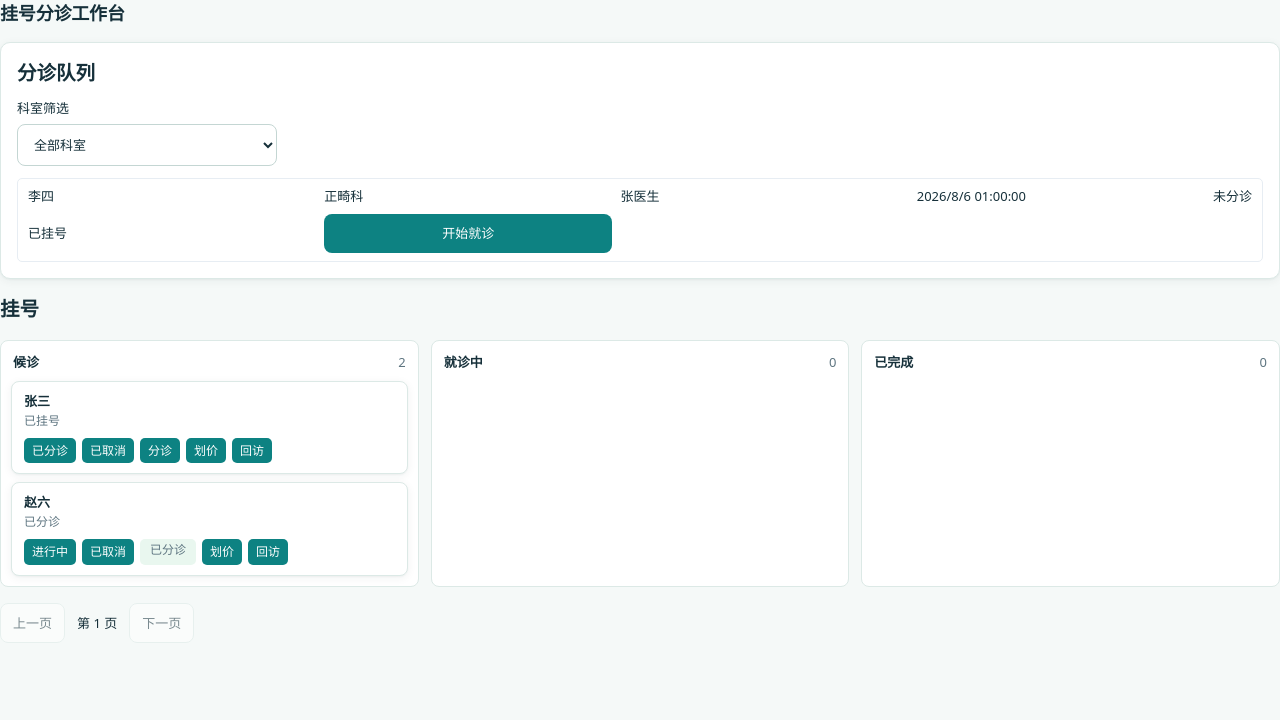
Test: FrontDeskWorkflowPage › submits a charge from the registration row
Click the button "划价" below "张三" at (206, 451), box [186, 438, 226, 463]
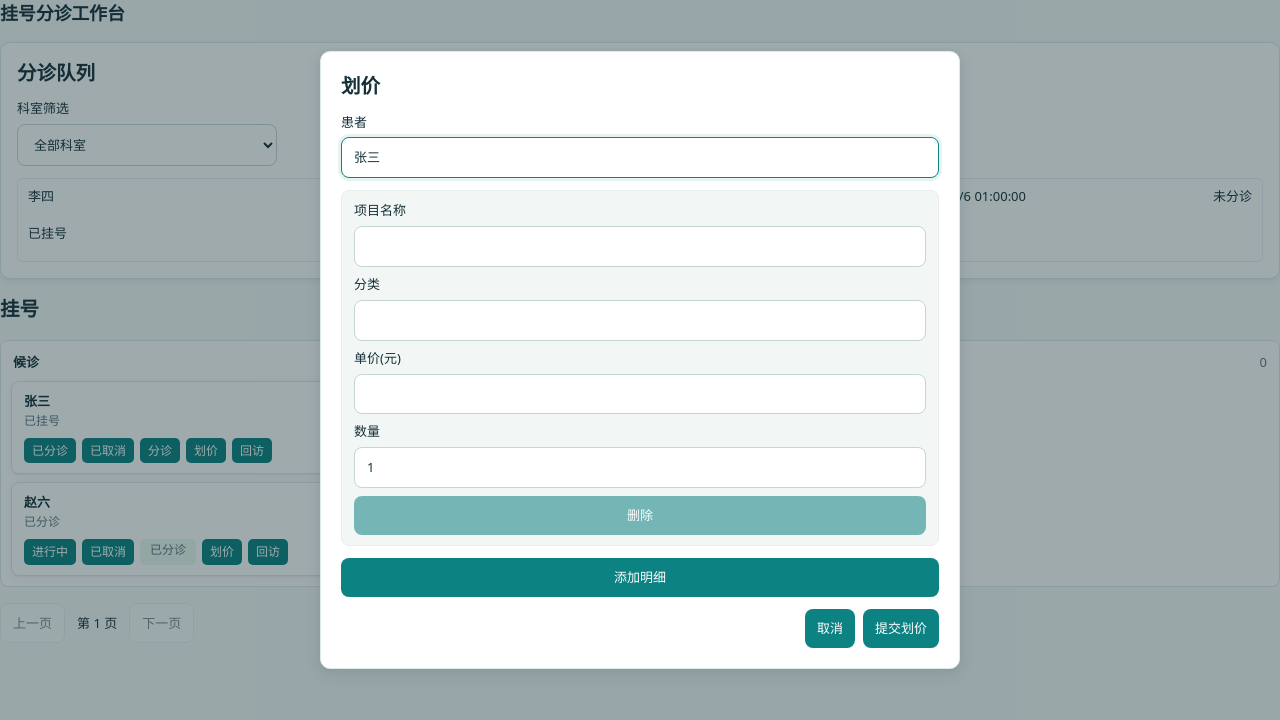
Type "洁牙" into the field labelled "项目名称" at (640, 247), box [354, 226, 926, 267]
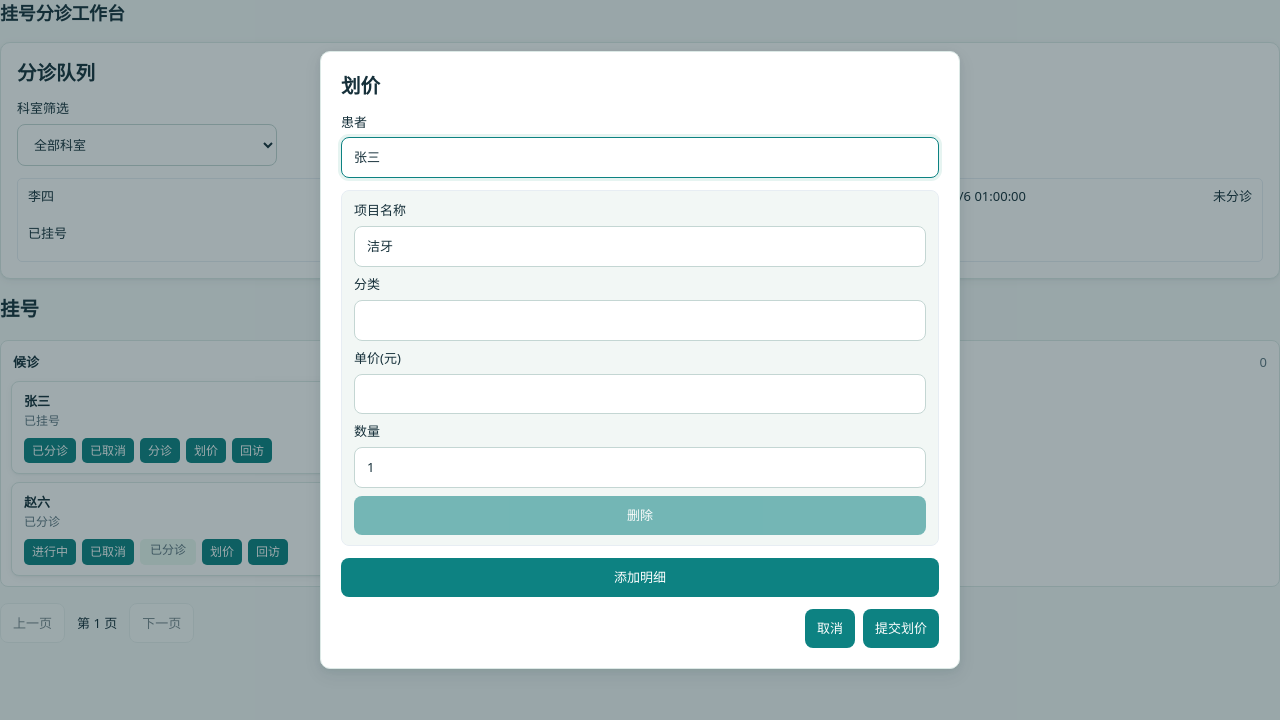
Type "GENERAL" into the field labelled "分类" at (640, 320), box [354, 300, 926, 341]
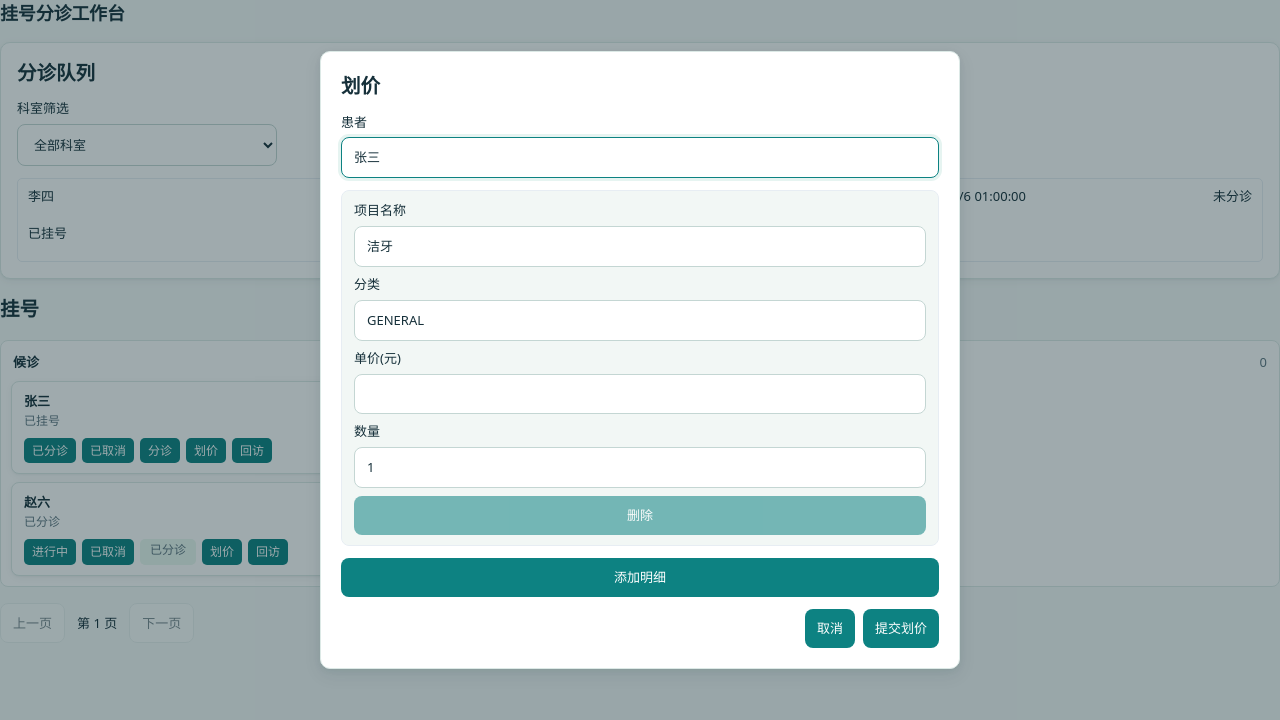
Type "100" into the number field labelled "单价(元)" at (640, 394), box [354, 374, 926, 414]
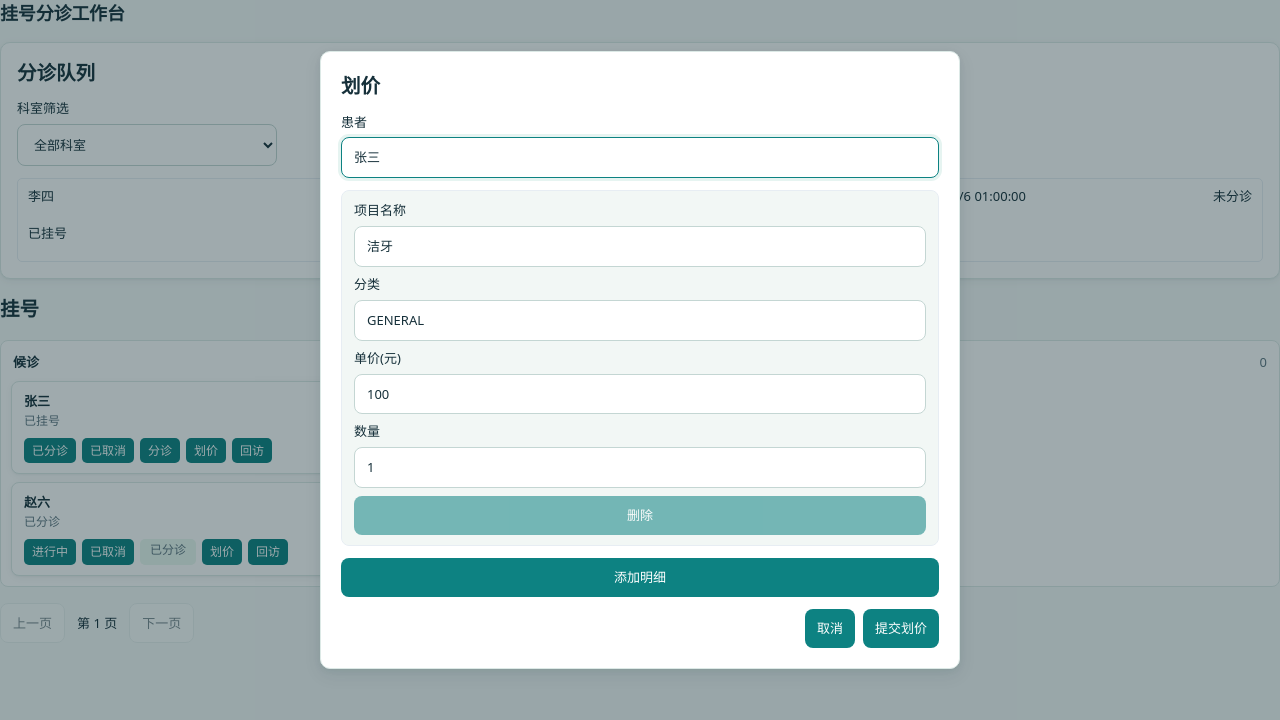
Replace the text in the number field labelled "数量" with "2" at (640, 468), box [354, 447, 926, 488]
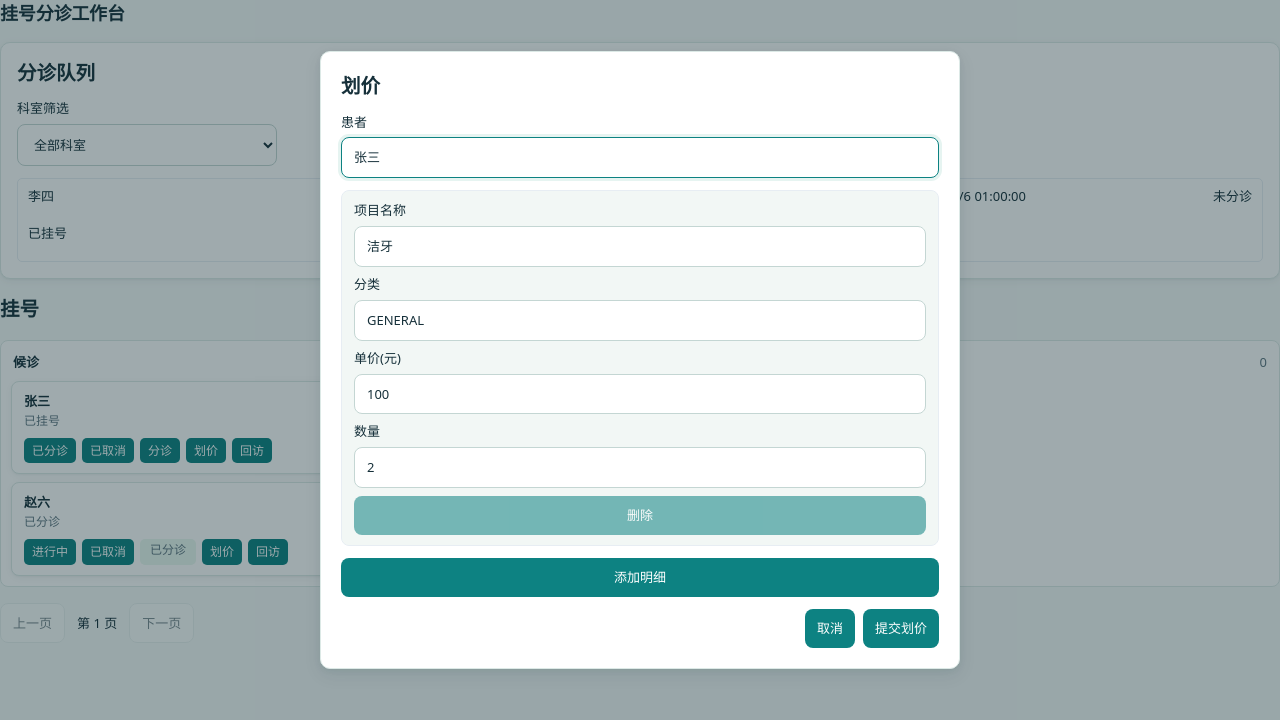
Click the button "提交划价" at (901, 628), box [863, 609, 939, 648]
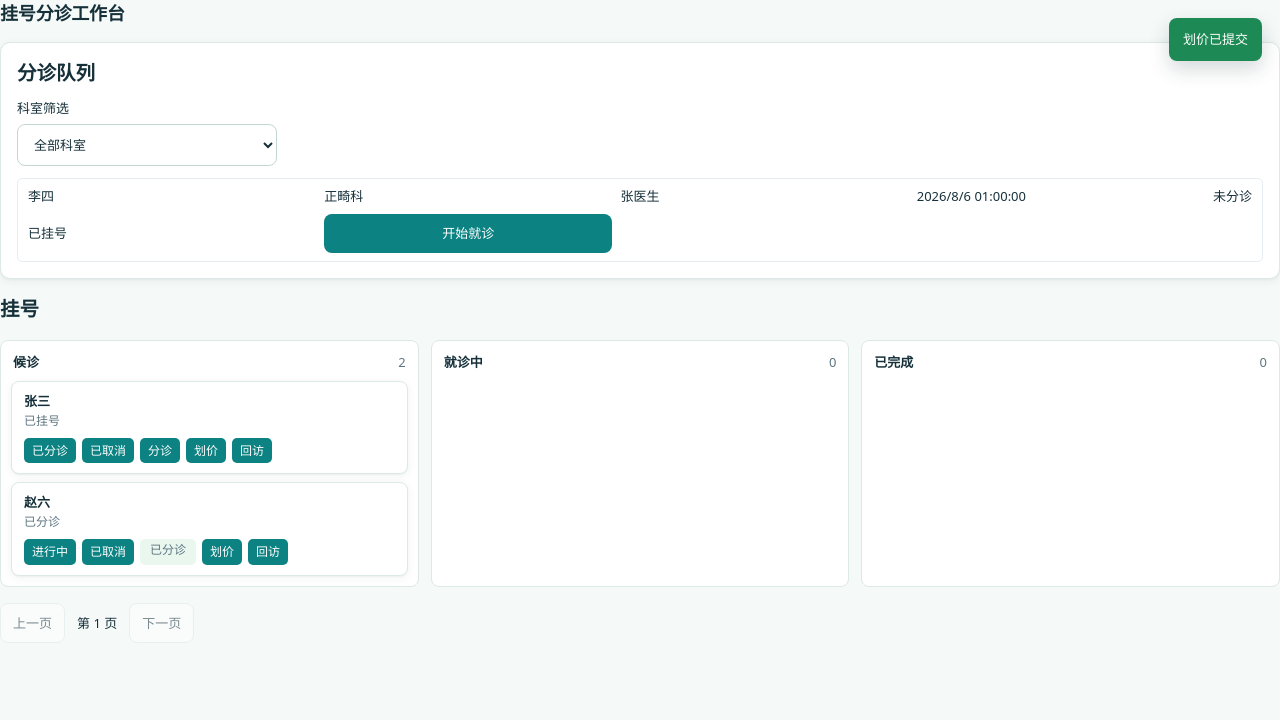
Now the text "划价已提交" is shown, box [1169, 18, 1262, 61]
